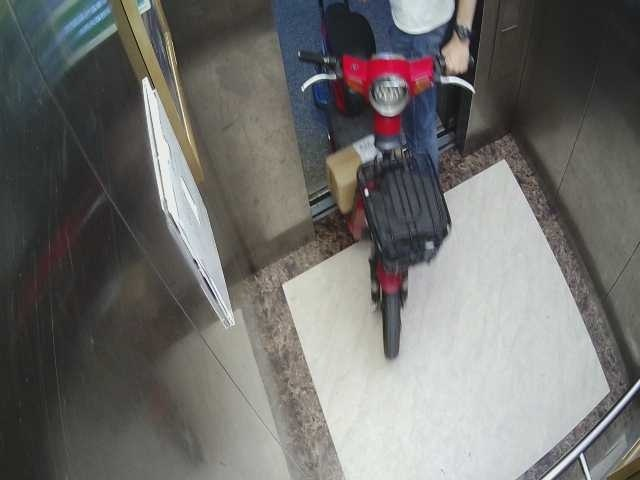emotor: (288, 3, 468, 353)
